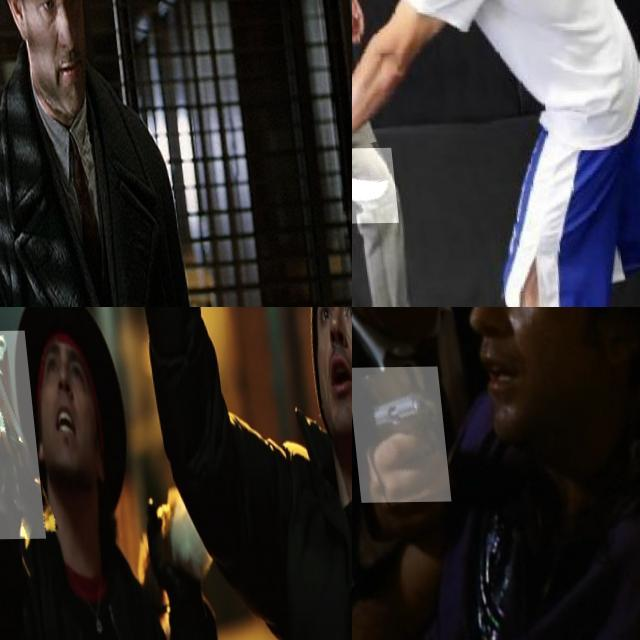-: (352, 148, 412, 225)
gun-knife-thesis - v11 Yolov5 augmented: (352, 367, 440, 503), (0, 331, 38, 539)
